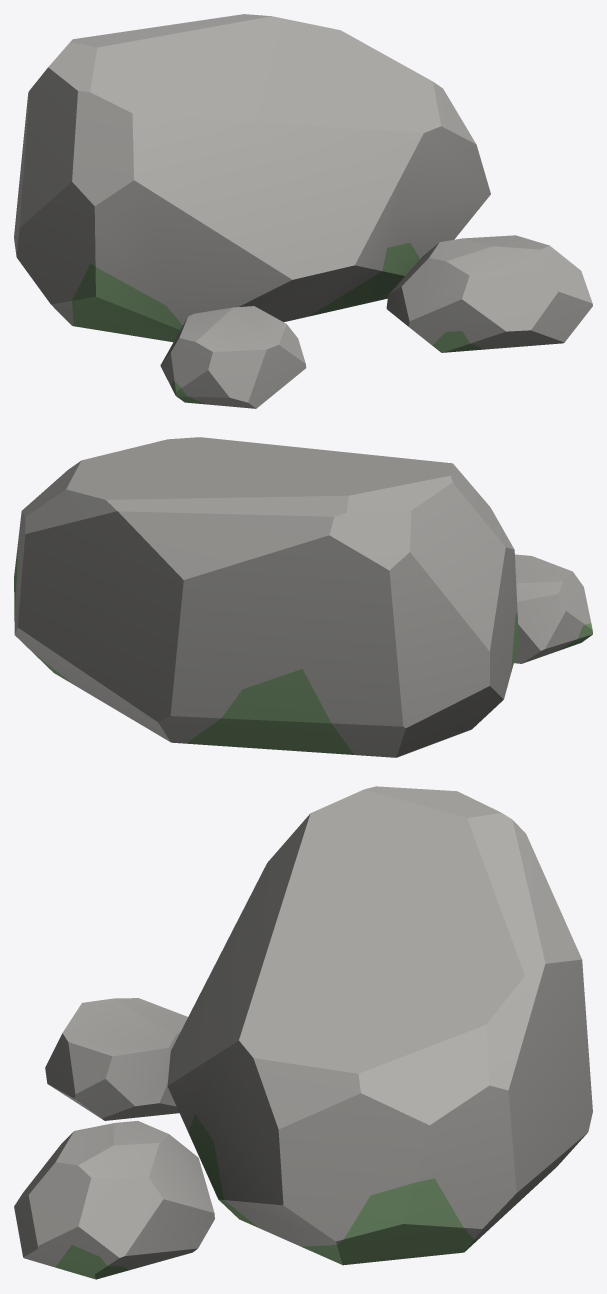
File: mrock.glb
3 views of the same model, one above another, from view 1: azimuth 30°, elevation 25°; view 2: azimuth 150°, elevation 25°; view 3: azimuth 270°, elevation 25° (orthographic). The views are drawn at different scales.
Parts seen in each view (by area): view 1: mrock; view 2: mrock; view 3: mrock.
Boxes of the visible parts, x1,y1,x2,y2 form: mrock: (14, 14, 592, 408); mrock: (14, 437, 592, 757); mrock: (14, 786, 592, 1279).
Size of the model in its own units: 1.3 by 0.65 by 1.24.
